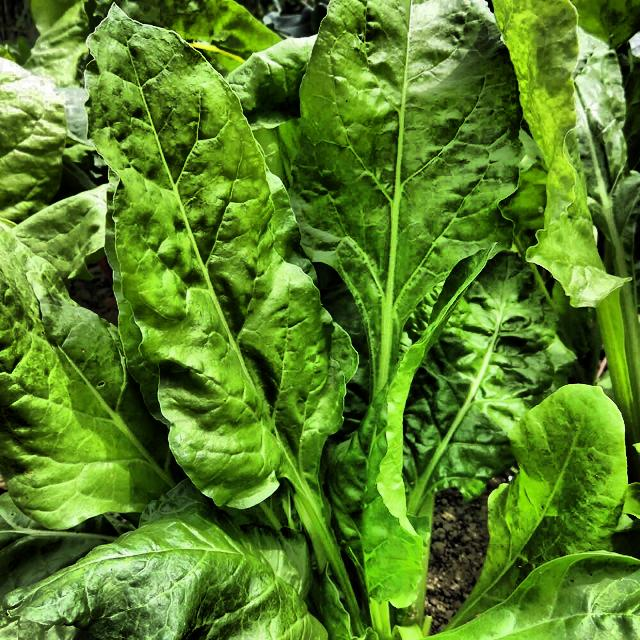spinach: (9, 13, 576, 609)
